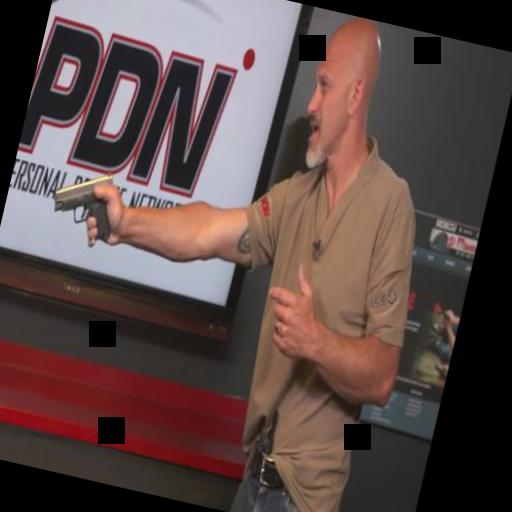Handgun: (44, 160, 126, 246)
